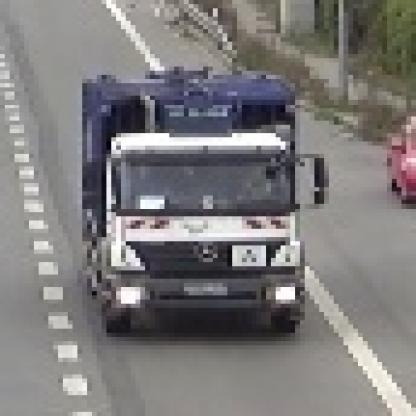truck: (73, 68, 330, 326)
